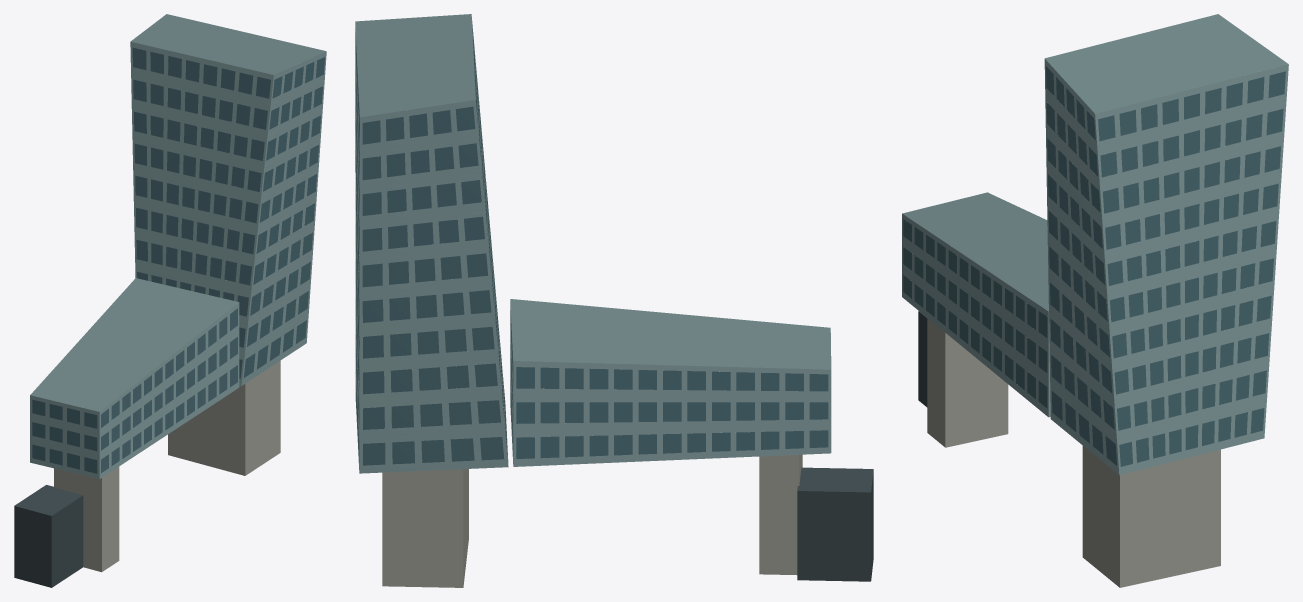
The model's file is tour-de-lille-far.glb.
3 renders of one model, left to right at view 1: azimuth 30°, elevation 25°; view 2: azimuth 150°, elevation 25°; view 3: azimuth 270°, elevation 25°, orthographic. The views are drawn at different scales.
Parts seen in each view (by area): view 1: tour-de-lille-0-panel, tour-de-lille-0-glass, tour-de-lille-0-metal, tour-de-lille-0-concrete, tour-de-lille-0-shadow; view 2: tour-de-lille-0-panel, tour-de-lille-0-glass, tour-de-lille-0-metal, tour-de-lille-0-concrete, tour-de-lille-0-shadow; view 3: tour-de-lille-0-panel, tour-de-lille-0-glass, tour-de-lille-0-concrete, tour-de-lille-0-metal, tour-de-lille-0-shadow.
Boxes of the visible parts, <box> form: tour-de-lille-0-panel: <box>30,41,326,479</box>; tour-de-lille-0-glass: <box>32,47,324,473</box>; tour-de-lille-0-metal: <box>30,14,326,411</box>; tour-de-lille-0-concrete: <box>54,360,280,572</box>; tour-de-lille-0-shadow: <box>14,485,83,587</box>; tour-de-lille-0-panel: <box>355,17,831,473</box>; tour-de-lille-0-glass: <box>355,25,828,465</box>; tour-de-lille-0-metal: <box>355,14,831,369</box>; tour-de-lille-0-concrete: <box>382,454,802,587</box>; tour-de-lille-0-shadow: <box>797,467,873,581</box>; tour-de-lille-0-panel: <box>902,59,1288,475</box>; tour-de-lille-0-glass: <box>903,66,1285,466</box>; tour-de-lille-0-concrete: <box>927,318,1220,587</box>; tour-de-lille-0-metal: <box>902,14,1288,311</box>; tour-de-lille-0-shadow: <box>918,311,927,407</box>.
Size of the model in its own units: 84.74 by 91 by 62.92.
